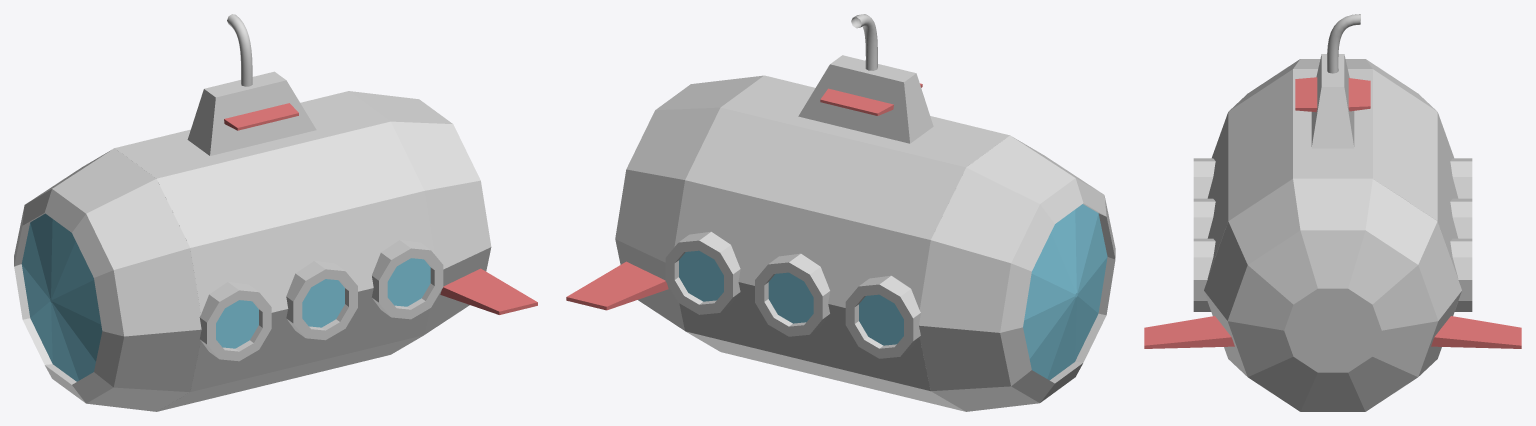
The model's file is submarine_body.fbx.
3 renders of one model, left to right at view 1: azimuth 30°, elevation 25°; view 2: azimuth 150°, elevation 25°; view 3: azimuth 270°, elevation 25°, orthographic. The views are drawn at different scales.
Visible parts, largest first — view 1: Cylinder, Cylinder.002, Cylinder.001, Cylinder.013, Cube, Cylinder.009, Cylinder.003, Cylinder.007, Cube.002, Cylinder.010, Cylinder.004, Cylinder.008 (+2 smaller); view 2: Cylinder, Cylinder.002, Cylinder.001, Cylinder.013, Cube, Cylinder.007, Cylinder.009, Cylinder.003, Cube.002, Cylinder.004, Cylinder.008, Cylinder.010 (+2 smaller); view 3: Cylinder.001, Cylinder, Cube.002, Cube, Cylinder.009, Cylinder.007, Cylinder.003, Cube.001, Cylinder.002, BezierCurve.
Boxes of the visible parts, bbox=[...] form: Cylinder: bbox=[115, 91, 434, 411]; Cylinder.002: bbox=[14, 148, 201, 411]; Cylinder.001: bbox=[349, 91, 491, 334]; Cylinder.013: bbox=[21, 213, 102, 381]; Cube: bbox=[187, 71, 316, 155]; Cylinder.009: bbox=[372, 240, 443, 319]; Cylinder.003: bbox=[286, 261, 357, 340]; Cylinder.007: bbox=[199, 282, 271, 361]; Cube.002: bbox=[440, 268, 537, 314]; Cylinder.010: bbox=[387, 258, 430, 306]; Cylinder.004: bbox=[302, 279, 344, 327]; Cylinder.008: bbox=[216, 300, 258, 348]; Cylinder: bbox=[674, 75, 1030, 411]; Cylinder.002: bbox=[919, 135, 1115, 411]; Cylinder.001: bbox=[615, 75, 763, 330]; Cylinder.013: bbox=[1023, 204, 1107, 380]; Cube: bbox=[798, 55, 933, 143]; Cylinder.007: bbox=[845, 275, 920, 358]; Cylinder.009: bbox=[665, 231, 740, 314]; Cylinder.003: bbox=[755, 253, 829, 336]; Cube.002: bbox=[566, 261, 668, 310]; Cylinder.004: bbox=[768, 272, 813, 323]; Cylinder.008: bbox=[859, 294, 903, 345]; Cylinder.010: bbox=[679, 250, 723, 301]; Cylinder.001: bbox=[1204, 178, 1461, 411]; Cylinder: bbox=[1207, 69, 1458, 315]; Cube.002: bbox=[1144, 316, 1521, 348]; Cube: bbox=[1311, 54, 1354, 148]; Cylinder.009: bbox=[1193, 238, 1472, 311]; Cylinder.007: bbox=[1193, 158, 1472, 198]; Cylinder.003: bbox=[1193, 198, 1472, 238]; Cube.001: bbox=[1295, 77, 1370, 112]; Cylinder.002: bbox=[1229, 59, 1436, 110]; BezierCurve: bbox=[1327, 14, 1360, 73].
Bounding box in the file's own units: 346 × 281 × 291.
